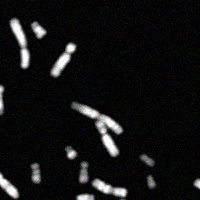chromosome: (69, 101, 122, 135), (10, 17, 29, 69), (93, 120, 119, 157), (50, 42, 76, 77), (91, 178, 126, 196), (0, 165, 18, 199), (77, 160, 89, 184), (30, 160, 41, 185), (31, 22, 46, 39), (140, 154, 155, 168), (64, 144, 77, 159), (0, 83, 5, 116), (75, 192, 94, 200), (145, 175, 155, 189), (193, 178, 200, 195), (117, 199, 140, 200)
